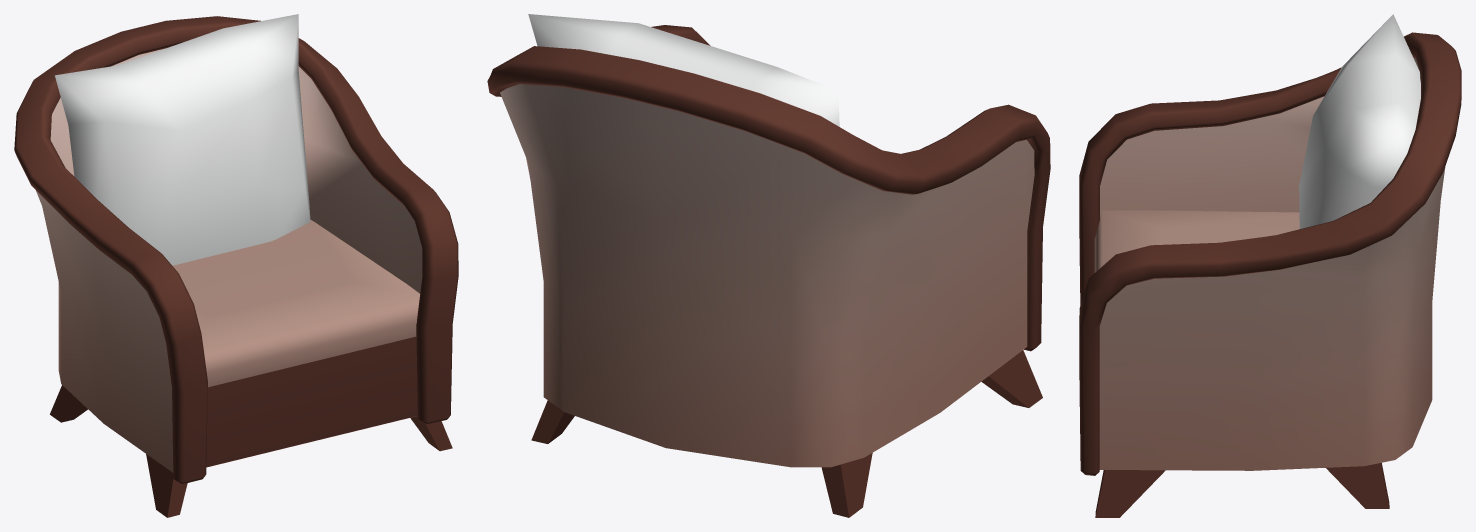
Rendered from chair.glb.
3 views of the same model, side by side, from view 1: azimuth 30°, elevation 25°; view 2: azimuth 150°, elevation 25°; view 3: azimuth 270°, elevation 25° (orthographic). The views are drawn at different scales.
Parts seen in each view (by area): view 1: Chair_01; view 2: Chair_01; view 3: Chair_01.
Part boxes in pixels (left/top/right/bottom): Chair_01: left=14, top=14, right=458, bottom=517; Chair_01: left=487, top=14, right=1050, bottom=517; Chair_01: left=1079, top=14, right=1461, bottom=517.
Bounding box in the file's own units: 0.9333 × 0.9189 × 0.8636.
Materials: 1 (1 with a texture image).
